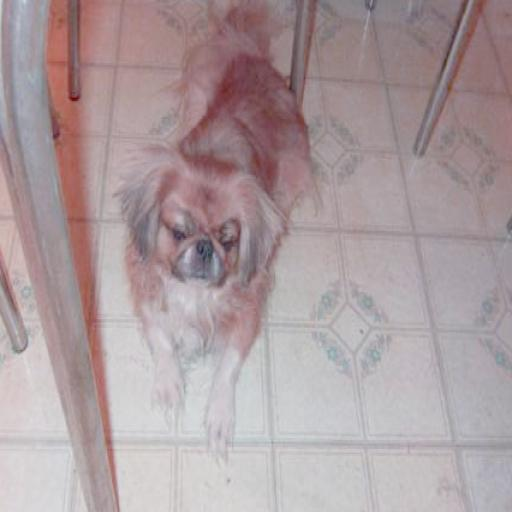dog_face: (124, 148, 270, 288)
